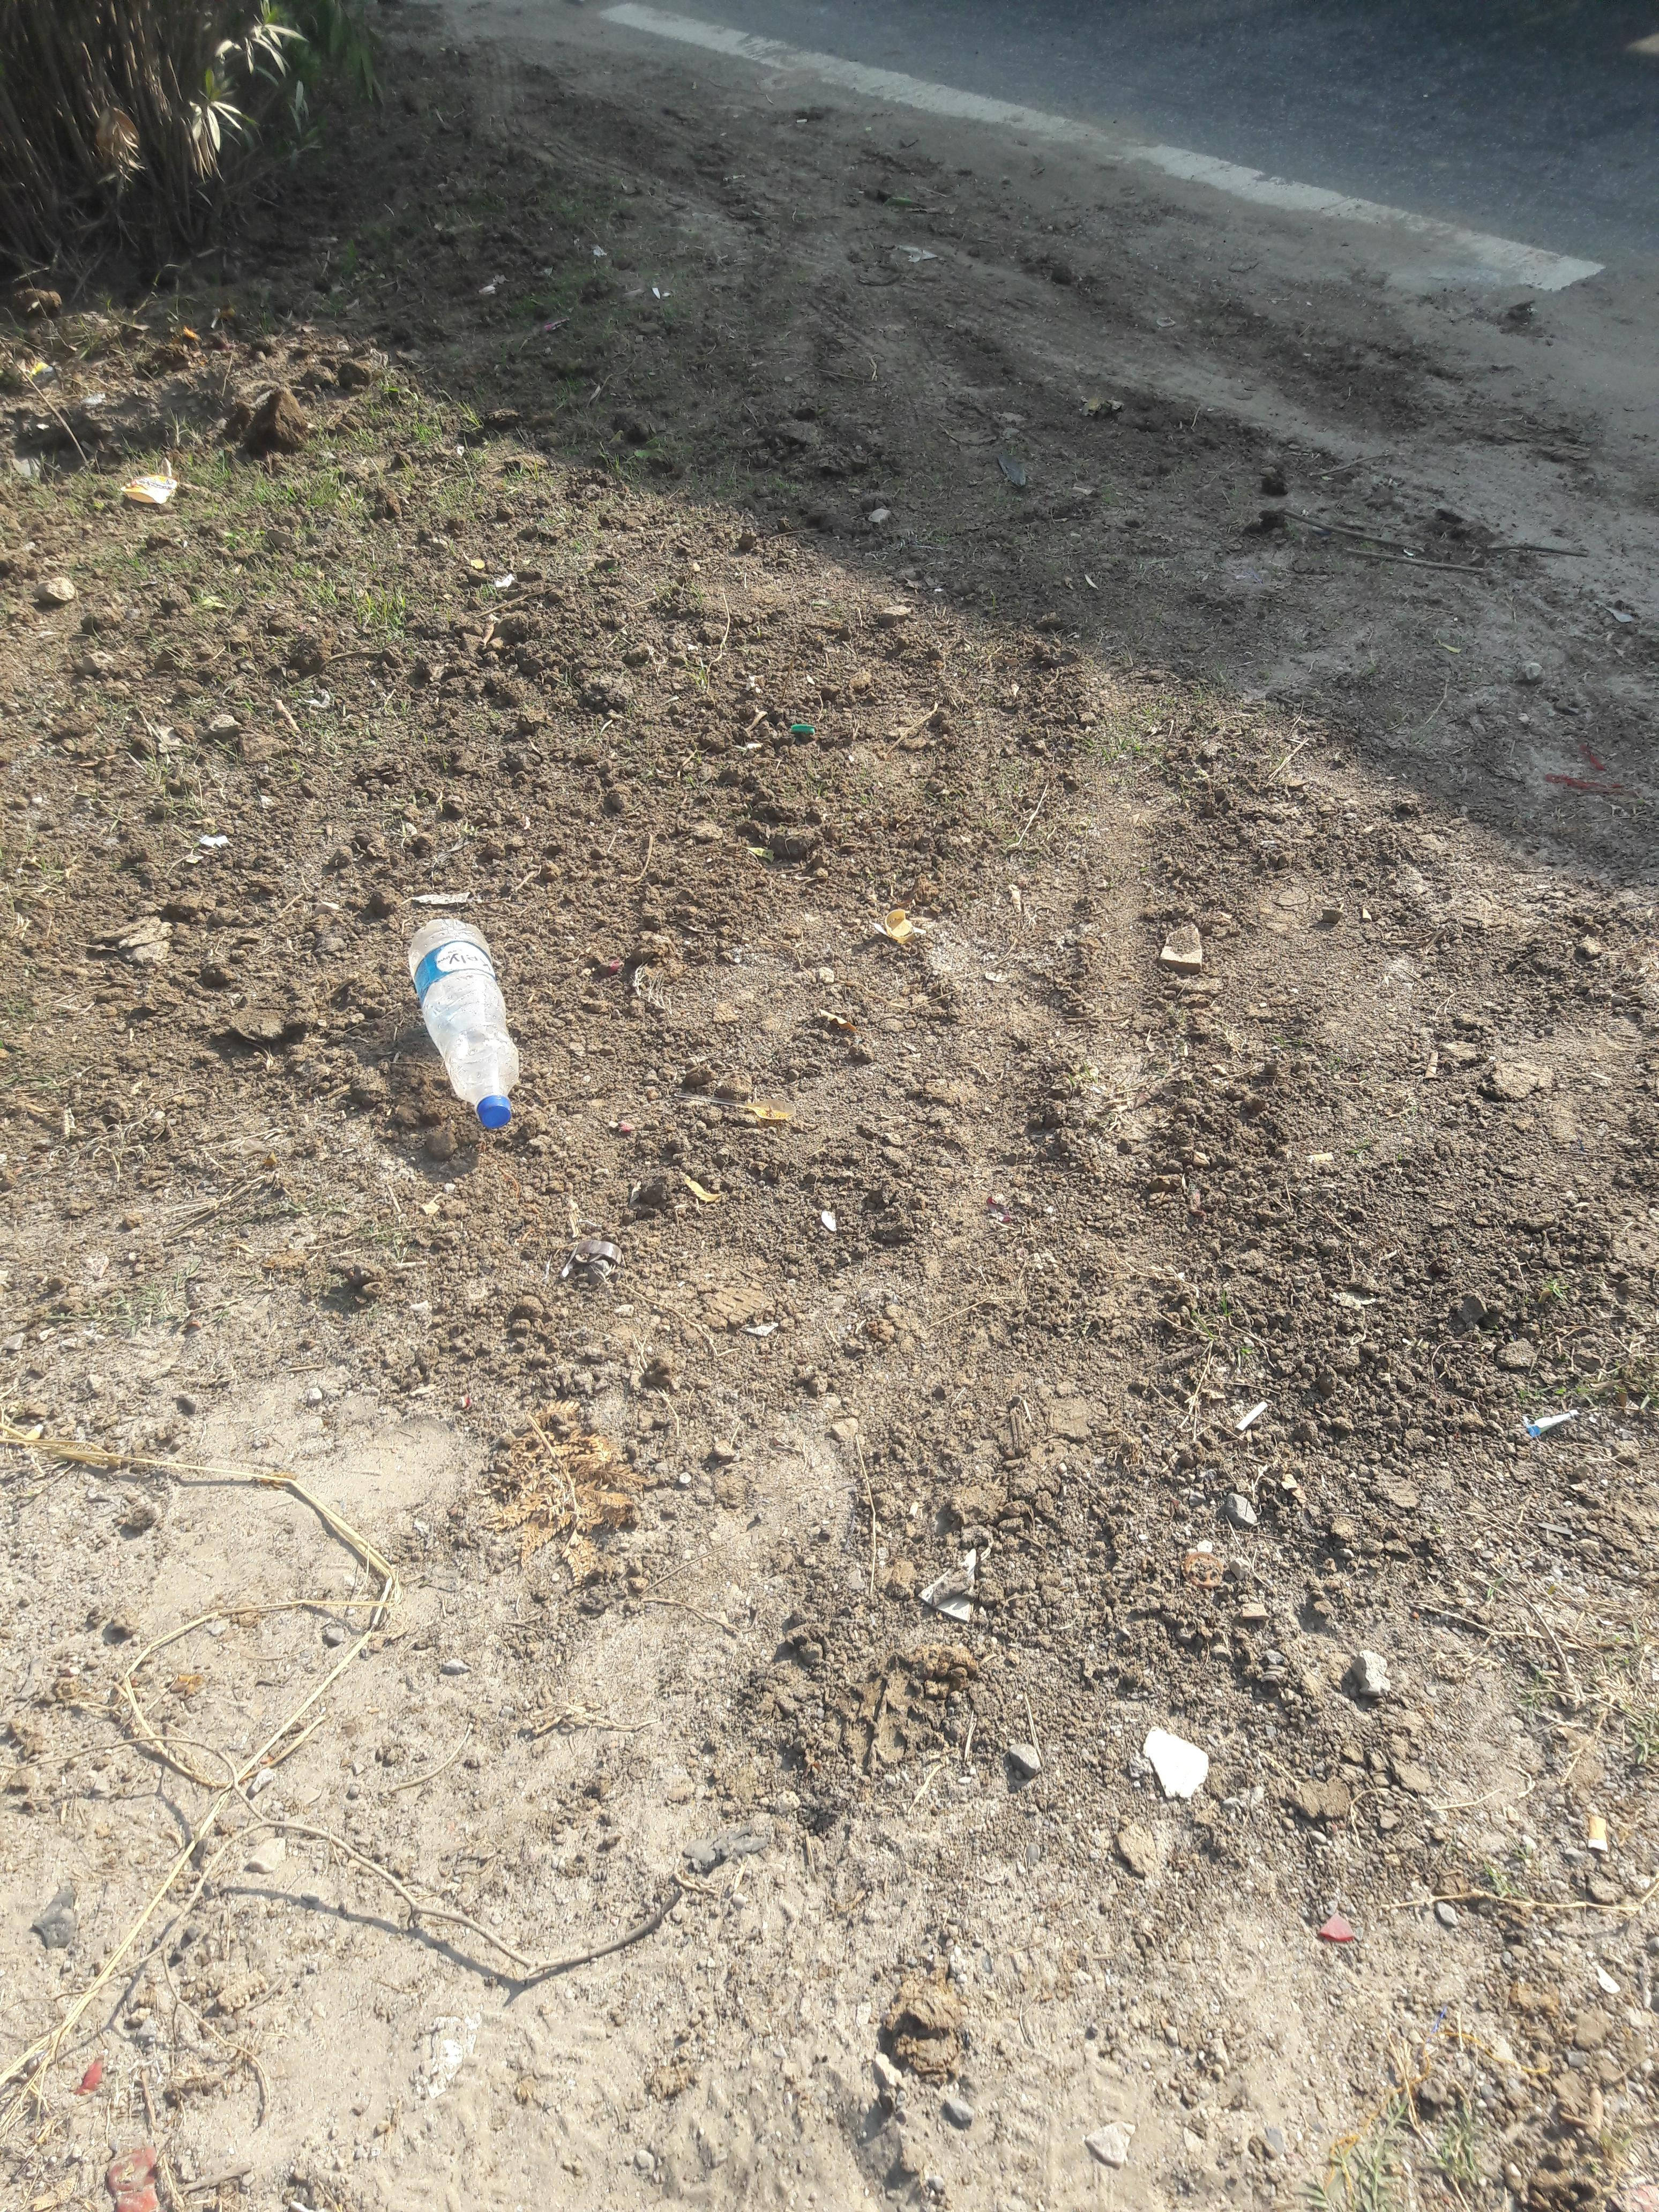trash: (376, 888, 549, 1153)
